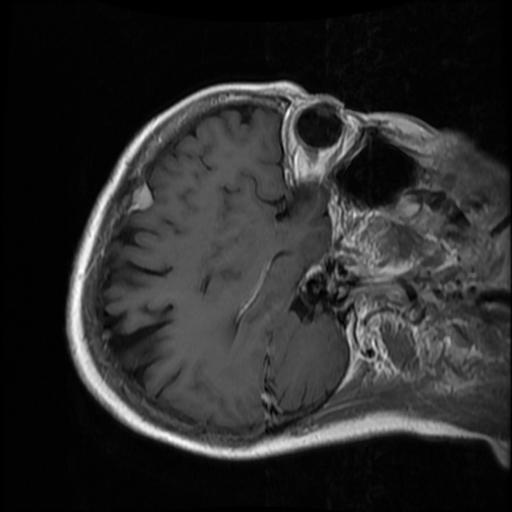meningioma: (129, 183, 154, 212)
